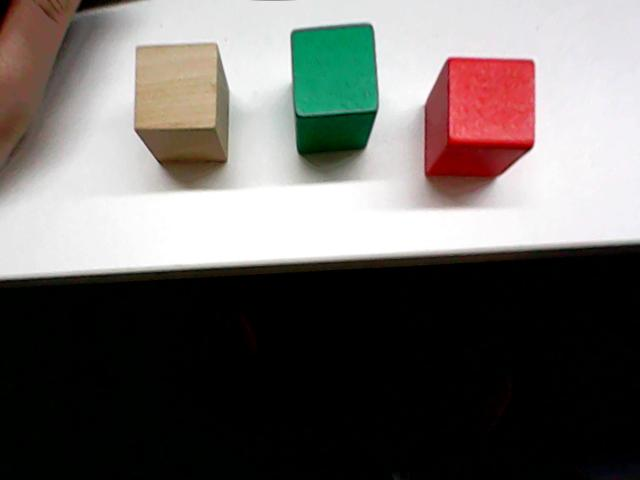green_box: (286, 20, 381, 157)
raw_box: (131, 36, 238, 168)
red_box: (420, 51, 539, 181)
